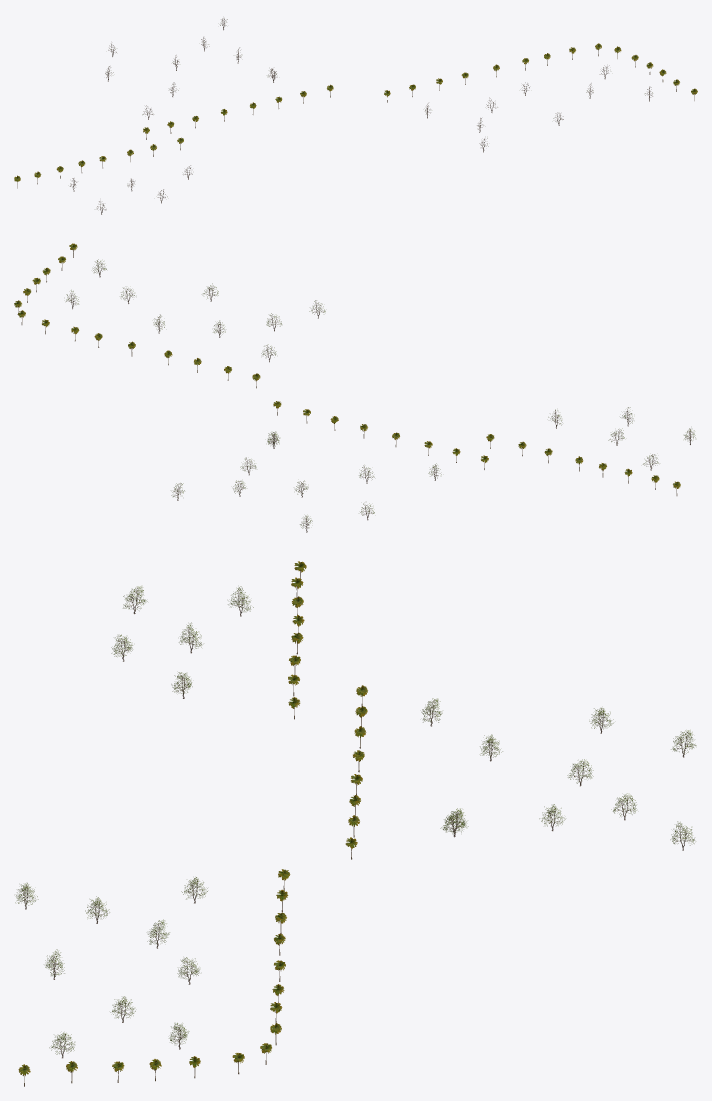
File: Tavora_mini_env.glb
The picture shows the model from 3 angles, top to bottom: view 1: azimuth 30°, elevation 25°; view 2: azimuth 150°, elevation 25°; view 3: azimuth 270°, elevation 25°; orthographic projection. The views are drawn at different scales.
Visible parts, largest first — view 1: plants_location; view 2: plants_location; view 3: plants_location.
Boxes of the visible parts, <box> form: plants_location: <box>14,18,697,214</box>; plants_location: <box>14,243,695,532</box>; plants_location: <box>15,561,696,1086</box>.
Size of the model in its own units: 244 by 6.38 by 139.
4 materials, 4 textured.
